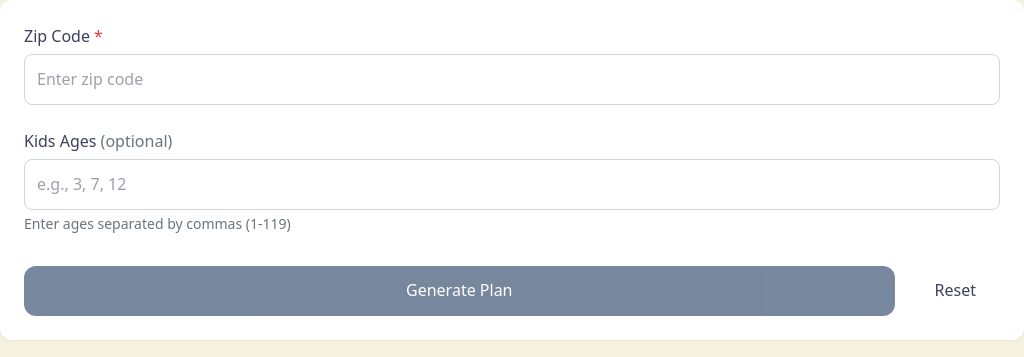
InputForm › Generate button enabled when required fields valid
Type "94105" into the field labelled "Zip Code *" at (512, 79), box x1=24 y1=54 x2=1000 y2=105
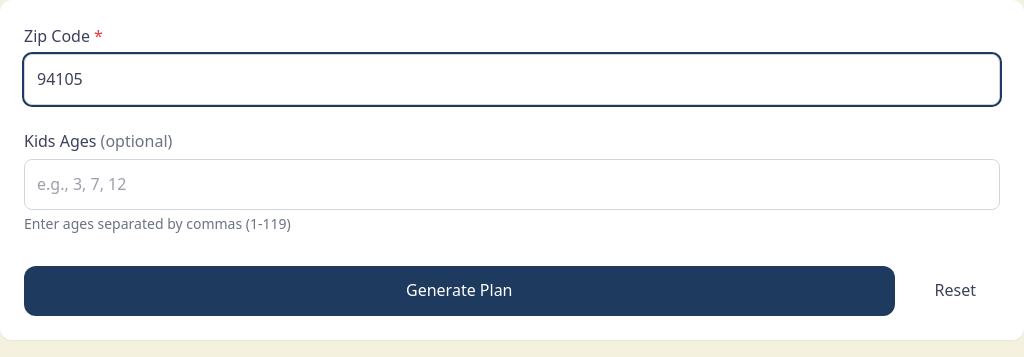
Now the button "Generate Plan" is enabled, box x1=24 y1=266 x2=894 y2=316
